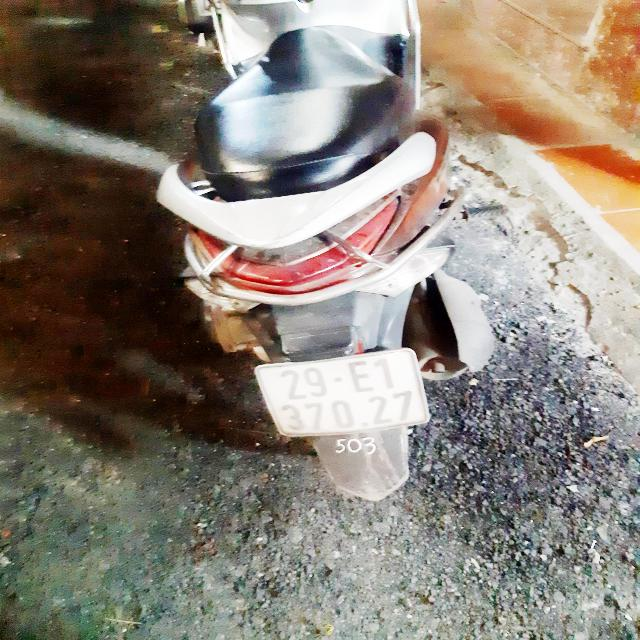license_plate: (243, 344, 438, 445)
